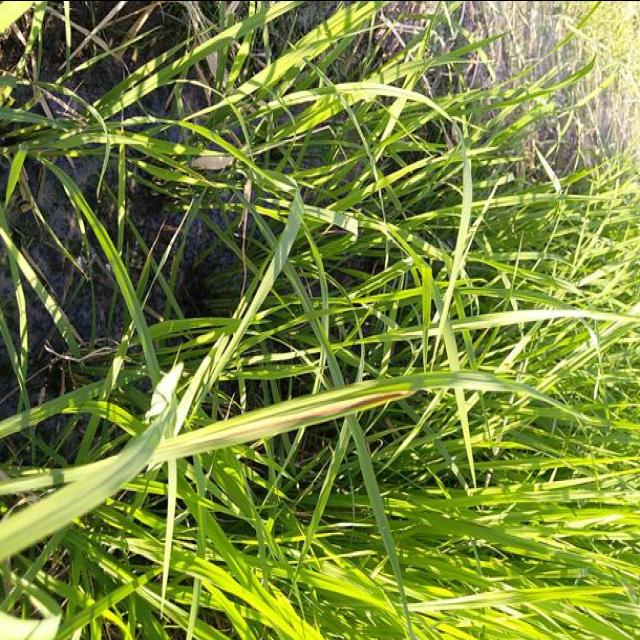Leaf Streak: (149, 389, 414, 462)
